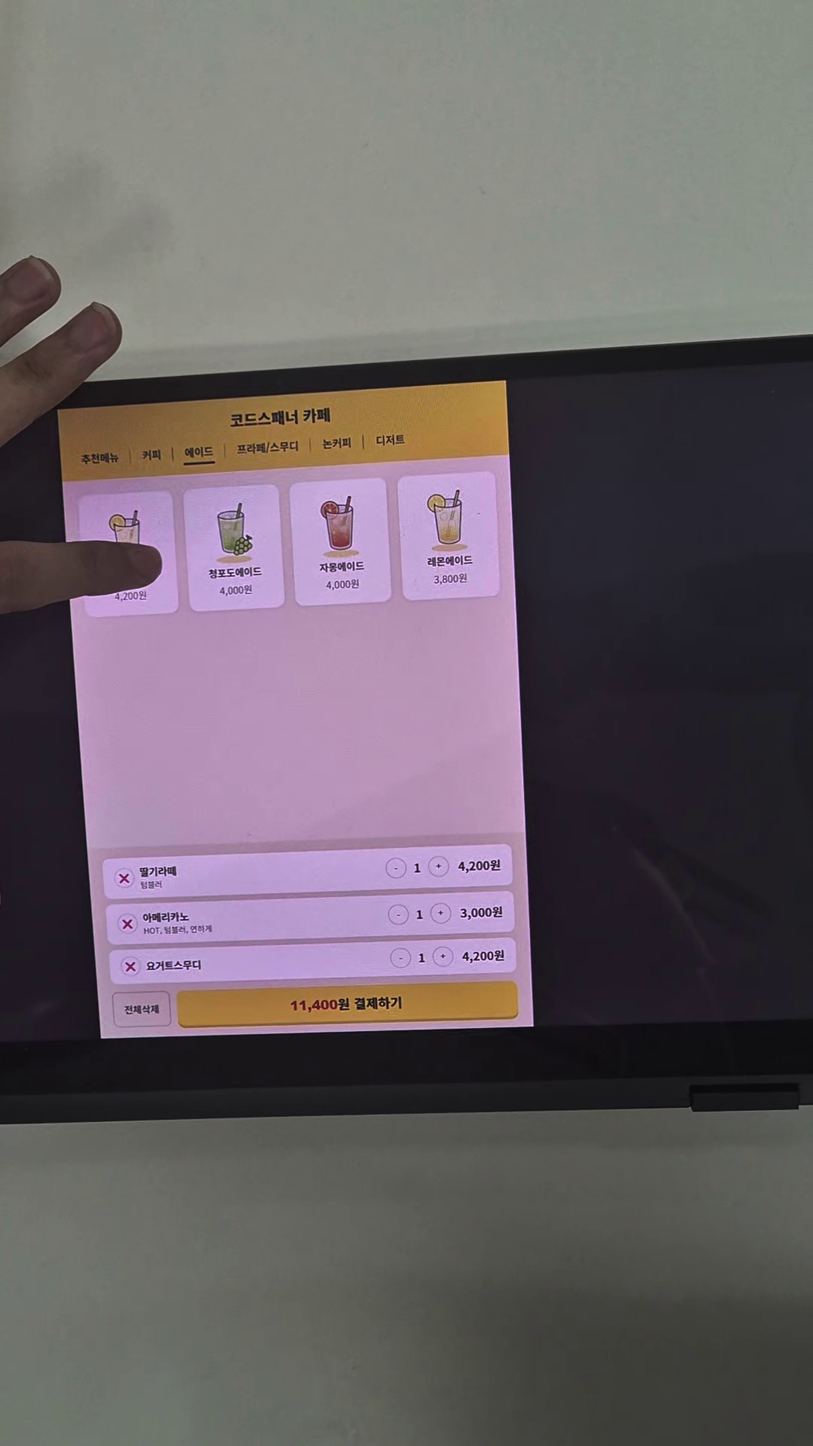action_button: (177, 982, 520, 1026), (111, 991, 172, 1027)
cart_item: (101, 845, 516, 900), (103, 891, 513, 944), (105, 938, 517, 985)
category_tab: (227, 434, 304, 463), (69, 446, 123, 467), (369, 430, 412, 454), (178, 438, 218, 461), (319, 433, 355, 456), (135, 441, 168, 465)
menu_back: (182, 481, 286, 612), (291, 478, 391, 610), (399, 470, 501, 599), (78, 490, 179, 617)
menu_name: (423, 551, 478, 570), (206, 564, 264, 580), (315, 558, 364, 575)
menu_price: (422, 570, 477, 589), (215, 581, 261, 600), (317, 576, 364, 594), (106, 590, 151, 608)
